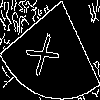X: (25, 25, 68, 79)
